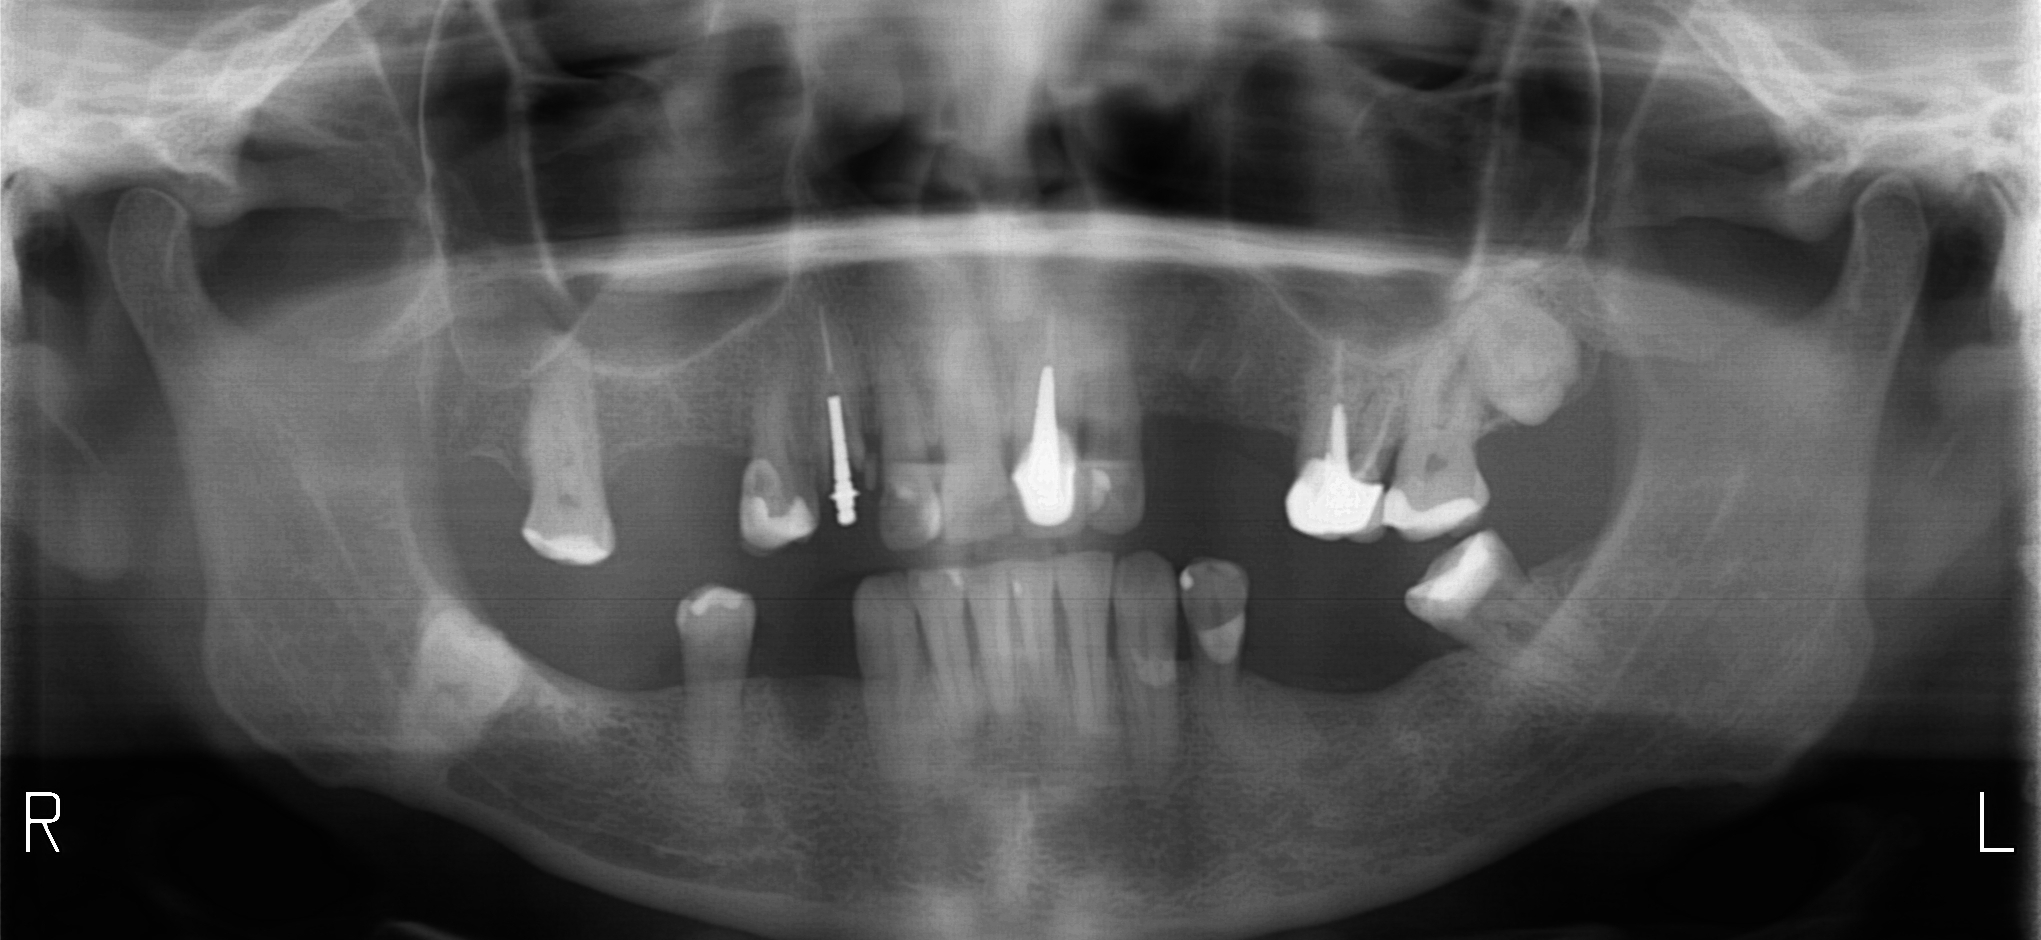cavity: (1381, 439, 1398, 467)
